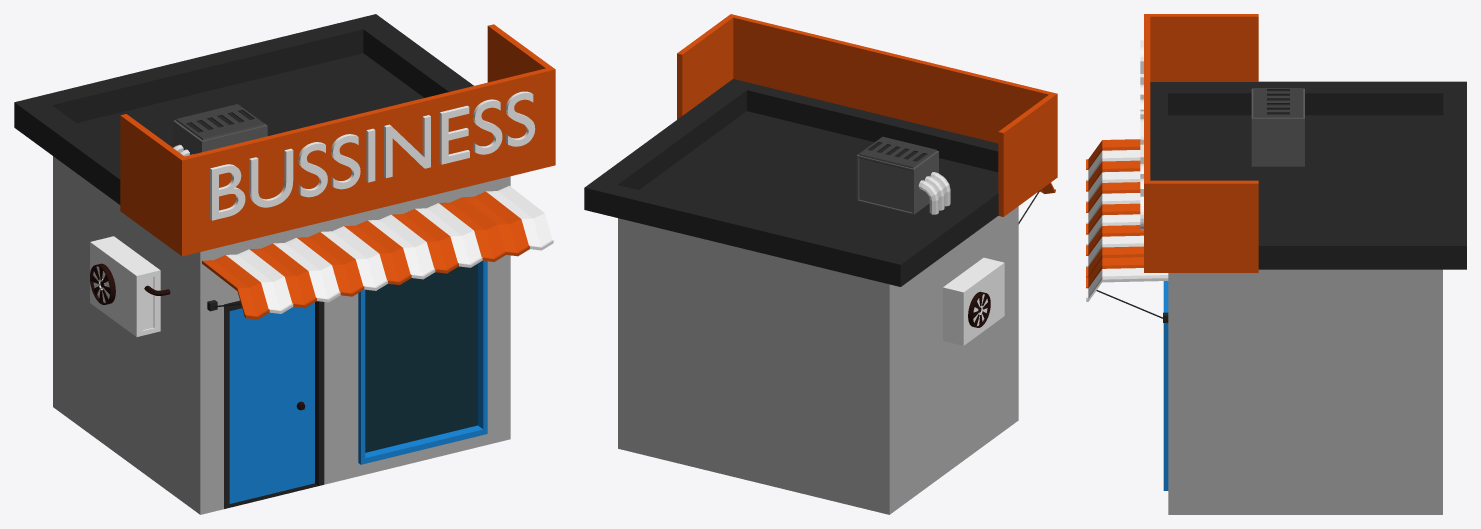
Rendered from Business.fbx.
The picture shows the model from 3 angles, left to right: view 1: azimuth 30°, elevation 25°; view 2: azimuth 150°, elevation 25°; view 3: azimuth 270°, elevation 25°; orthographic projection. The views are drawn at different scales.
Parts seen in each view (by area): view 1: Plane.022; view 2: Plane.022; view 3: Plane.022.
Boxes of the visible parts, bbox=[...] form: Plane.022: bbox=[14, 14, 555, 514]; Plane.022: bbox=[584, 14, 1057, 514]; Plane.022: bbox=[1086, 14, 1466, 514].
Size of the model in its own units: 552 by 525 by 523.
